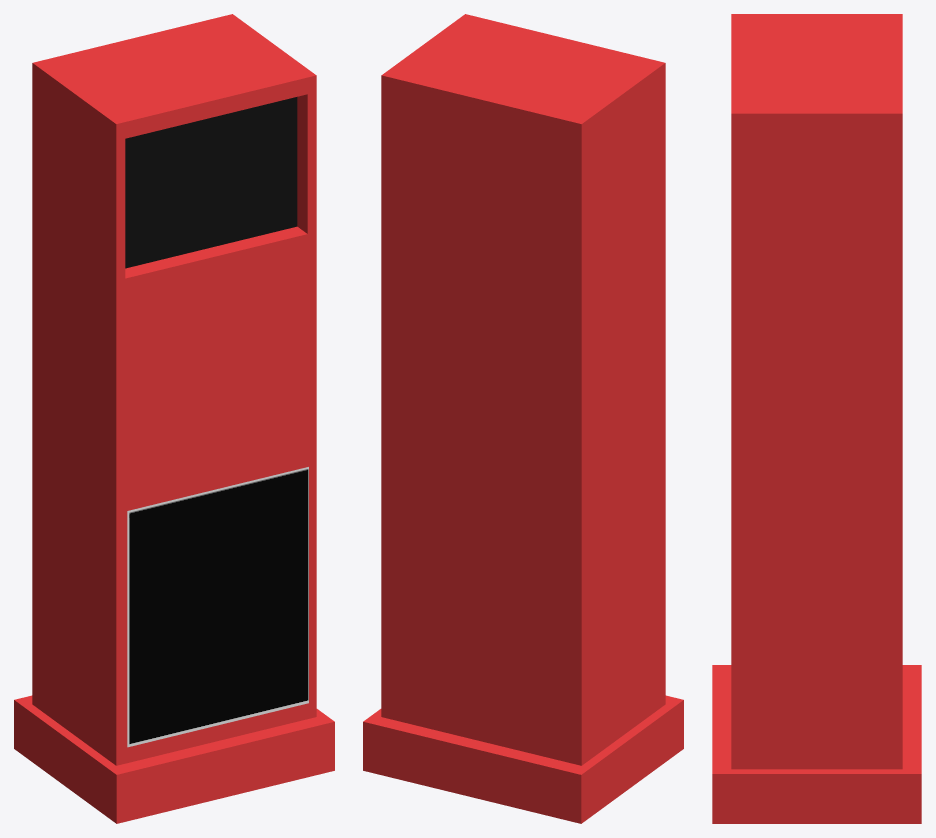
The model's file is Itr_Airconditioner2_Body_02.FBX.
3 views of the same model, side by side, from view 1: azimuth 30°, elevation 25°; view 2: azimuth 150°, elevation 25°; view 3: azimuth 270°, elevation 25° (orthographic). The views are drawn at different scales.
Parts seen in each view (by area): view 1: Itr_Airconditioner2_Body_02; view 2: Itr_Airconditioner2_Body_02; view 3: Itr_Airconditioner2_Body_02.
Part boxes in pixels (x1,y1,x2,y2): Itr_Airconditioner2_Body_02: (14, 14, 334, 823); Itr_Airconditioner2_Body_02: (363, 14, 683, 823); Itr_Airconditioner2_Body_02: (712, 14, 921, 823).
Bounding box in the file's own units: 26.9 × 81.38 × 21.9.
